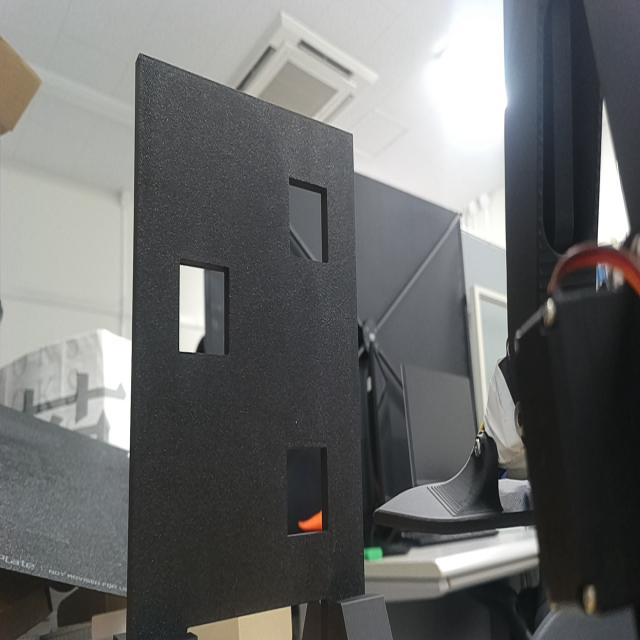Obstacle: (178, 263, 230, 351), (288, 446, 328, 534), (290, 179, 329, 262)
Wall: (132, 55, 364, 639)
